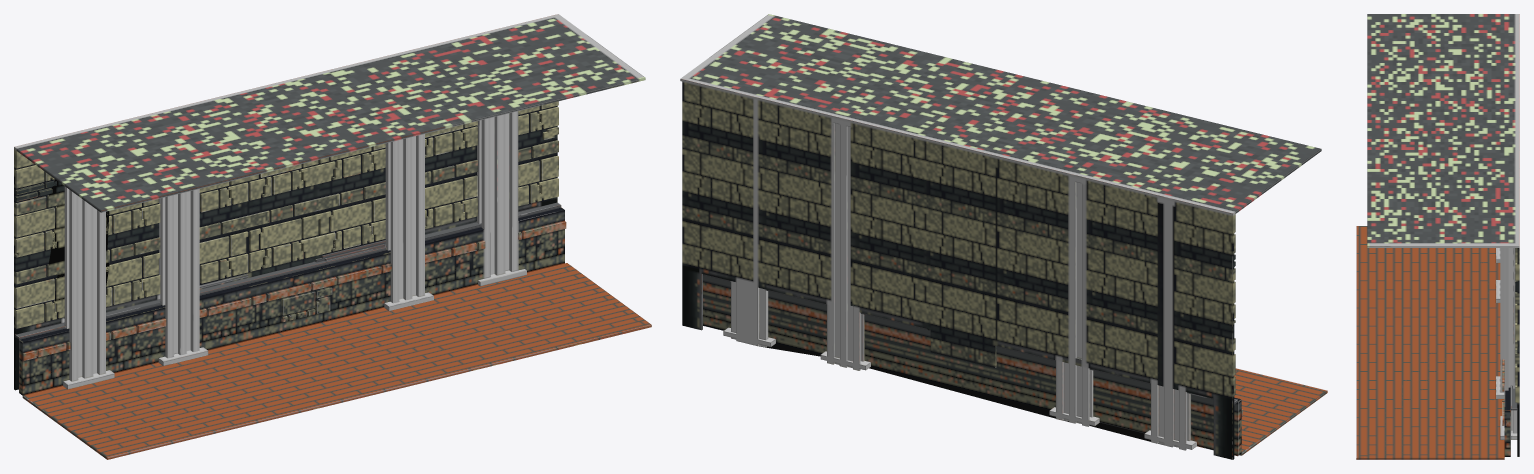
File: 1 Castle Room Coridoro.fbx
3 views of the same model, side by side, from view 1: azimuth 30°, elevation 25°; view 2: azimuth 150°, elevation 25°; view 3: azimuth 270°, elevation 25° (orthographic). The views are drawn at different scales.
Visible parts, largest first — view 1: Untitled; view 2: Untitled; view 3: Untitled.
Boxes of the visible parts, x1,y1,x2,y2 form: Untitled: [14, 14, 651, 459]; Untitled: [680, 14, 1327, 459]; Untitled: [1356, 14, 1519, 459].
Bounding box in the file's own units: 2560 × 1100 × 760.
Materials: 1 (1 with a texture image).
